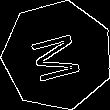M_E: (26, 27, 88, 84)
